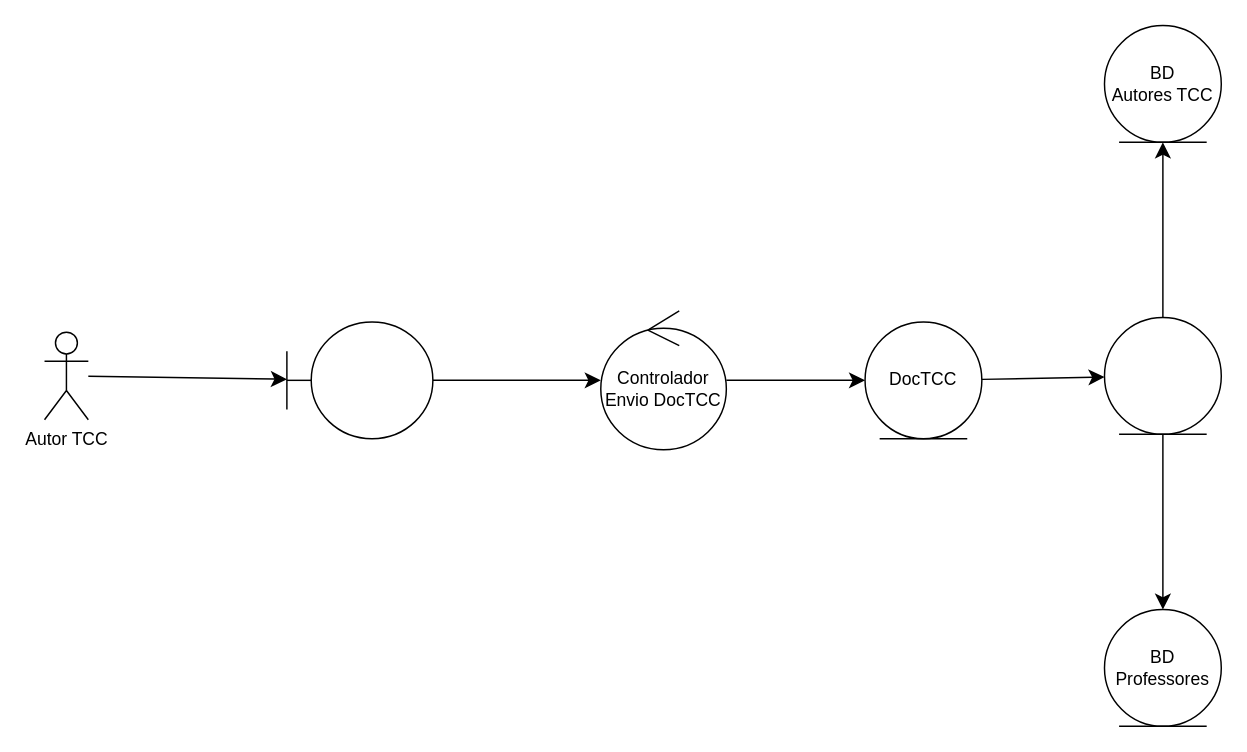
The diagram is 1247 pixels wide and 752 high, and some of its shapes have lost their labels. Each missing label, with the box of its shape:
ProjetoTCC: (1103, 316, 1221, 434)
Tela Envio DocTCC: (285, 320, 433, 439)
